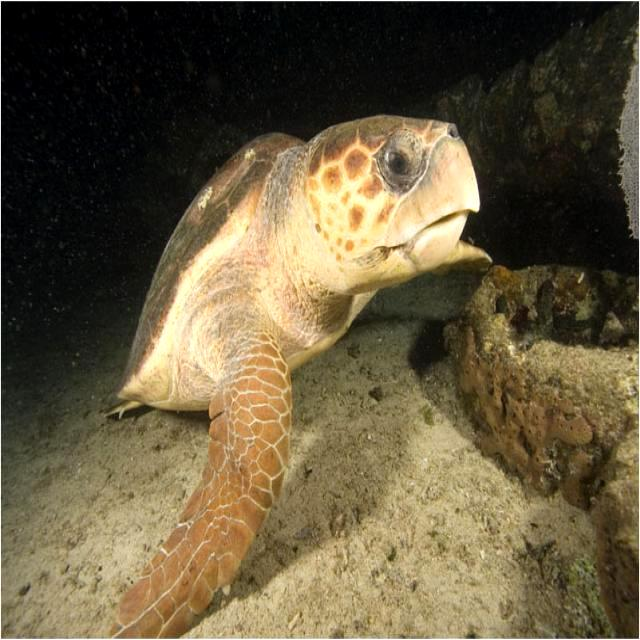Sea turtle: (104, 104, 496, 640)
